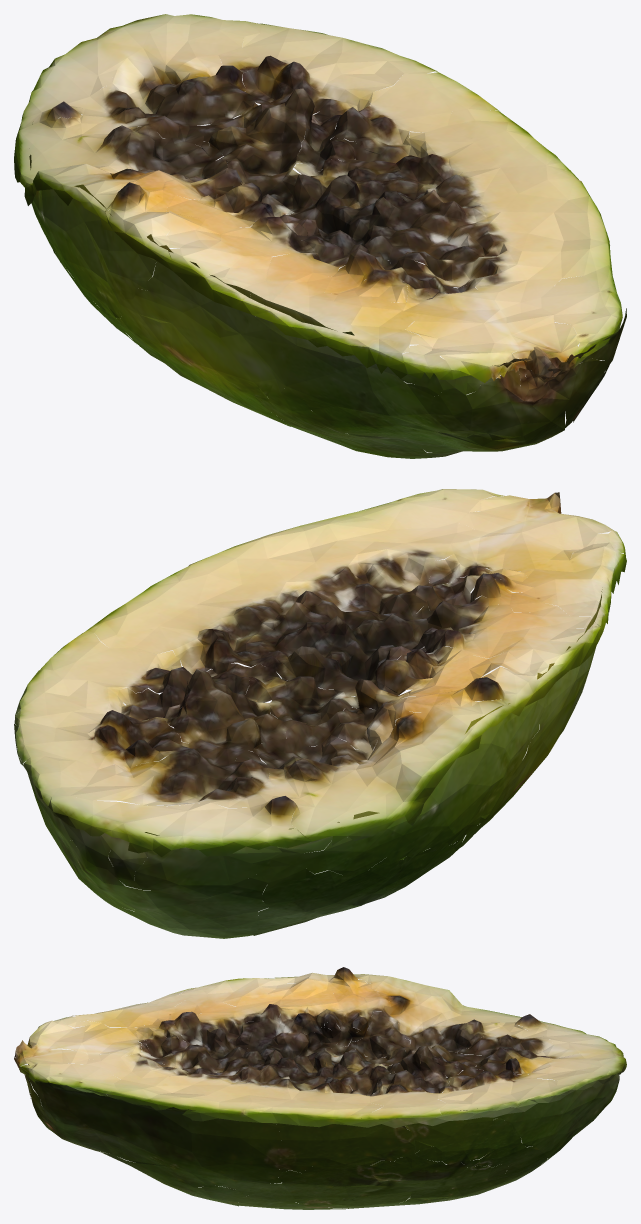
Rendered from papaya_bottom.gltf.
The picture shows the model from 3 angles, top to bottom: view 1: azimuth 30°, elevation 25°; view 2: azimuth 150°, elevation 25°; view 3: azimuth 270°, elevation 25°; orthographic projection. The views are drawn at different scales.
Parts seen in each view (by area): view 1: Mesh_0.004; view 2: Mesh_0.004; view 3: Mesh_0.004.
Boxes of the visible parts, x1,y1,x2,y2 form: Mesh_0.004: [14, 14, 626, 458]; Mesh_0.004: [14, 489, 626, 938]; Mesh_0.004: [14, 967, 626, 1209].
Bounding box in the file's own units: 0.4317 × 0.247 × 0.8099.
2 materials, 2 textured.
